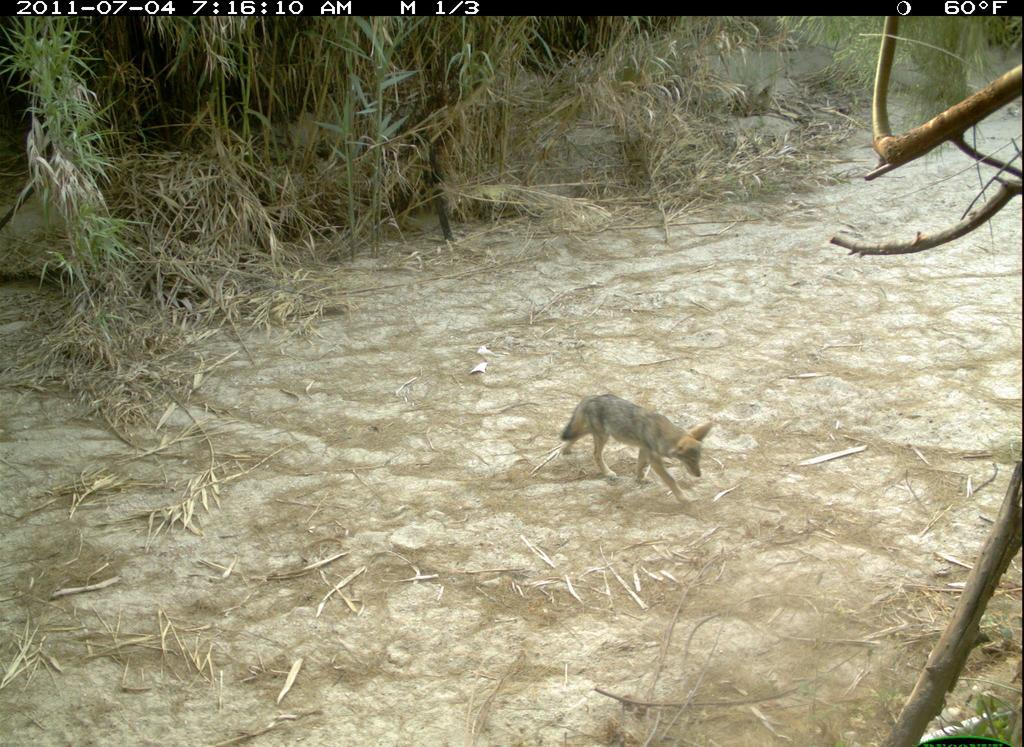coyote: (541, 386, 729, 518)
